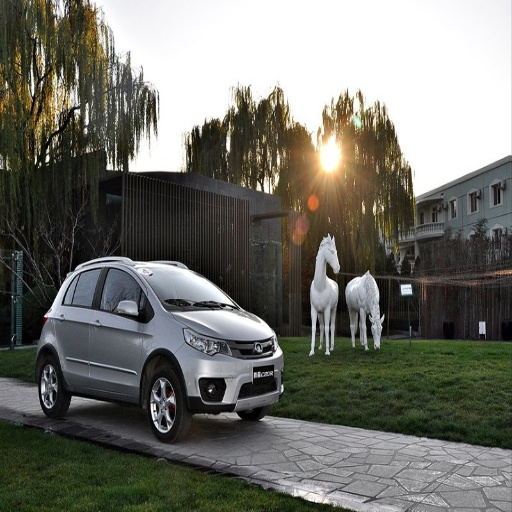front_bumper: (184, 339, 284, 415)
front_right_door: (90, 264, 149, 394)
